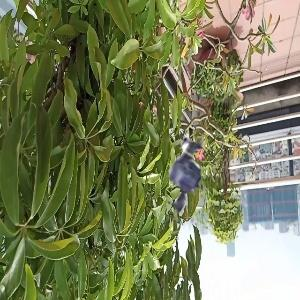drone: (125, 118, 236, 229)
